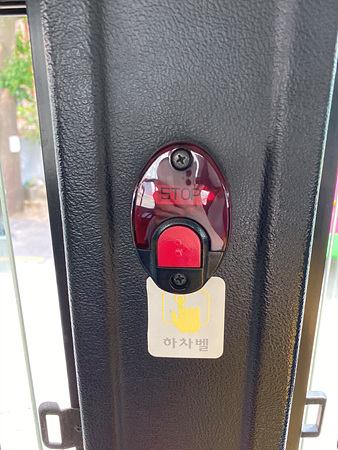bell: (131, 140, 232, 292)
